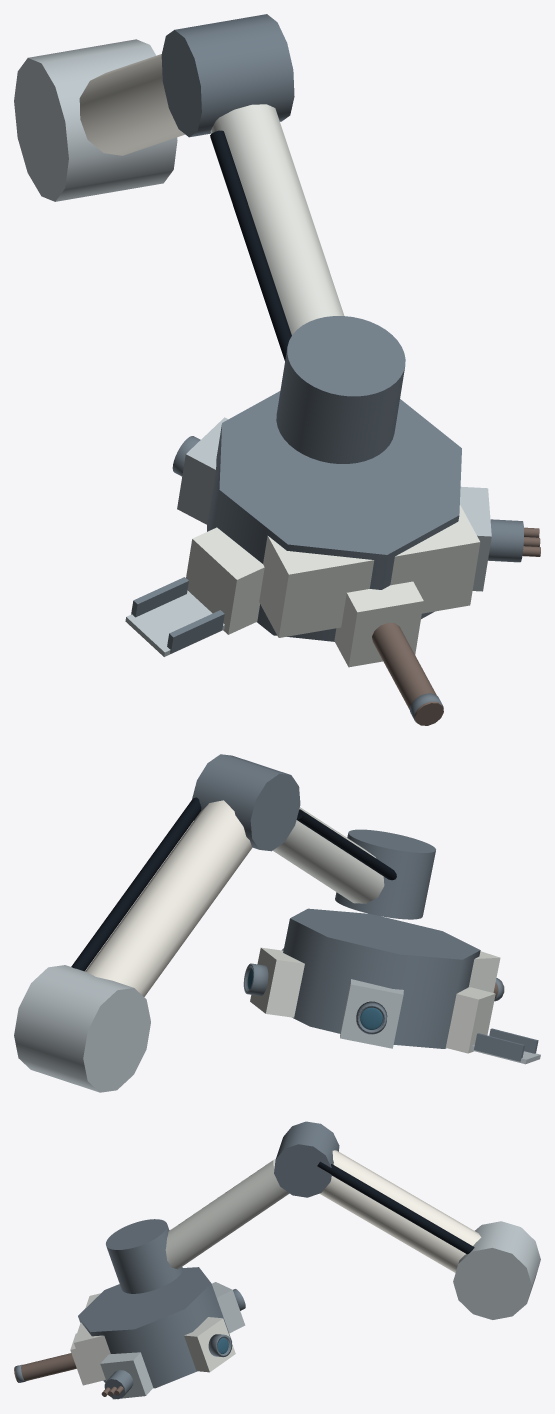
The model's file is curiosity_arm.glb.
The picture shows the model from 3 angles, top to bottom: view 1: azimuth 30°, elevation 25°; view 2: azimuth 150°, elevation 25°; view 3: azimuth 270°, elevation 25°; orthographic projection. The views are drawn at different scales.
Visible parts, largest first — view 1: curiosity_arm.shoulder_azimuth.shoulder_elevation.elbow.fore (×3), curiosity_turret.mesh_Machined_steel, curiosity_arm.shoulder_azimuth.shoulder_elevation.mesh_Satin, curiosity_turret.mesh_Pale_thermal_blanket, curiosity_arm.shoulder_azimuth.shoulder_elevation.elbow.mesh, curiosity_arm.shoulder_azimuth.shoulder_elevation.mesh_Warm_, curiosity_turret.chimra.mesh_Pale_thermal_blanket, curiosity_turret.drill.mesh_Pale_thermal_blanket, curiosity_turret.drill.mesh_Heat-stained_alloy, curiosity_turret.apxs.mesh_Satin_aluminum, curiosity_turret.chimra.mesh_Satin_aluminum, curiosity_turret.chimra.mesh_Machined_steel (+2 smaller); view 2: curiosity_turret.mesh_Machined_steel, curiosity_arm.shoulder_azimuth.shoulder_elevation.mesh_Satin, curiosity_arm.shoulder_azimuth.shoulder_elevation.mesh_Warm_, curiosity_arm.shoulder_azimuth.shoulder_elevation.elbow.fore (×3), curiosity_arm.shoulder_azimuth.shoulder_elevation.elbow.mesh, curiosity_arm.shoulder_azimuth.shoulder_elevation.mesh_Shado, curiosity_turret.apxs.mesh_Satin_aluminum, curiosity_turret.mahli.mesh_Pale_thermal_blanket, curiosity_turret.chimra.mesh_Pale_thermal_blanket, curiosity_turret.chimra.mesh_Machined_steel, curiosity_turret.mesh_Pale_thermal_blanket, curiosity_turret.mahli.aperture.mesh_Machined_steel (+2 smaller); view 3: curiosity_turret.mesh_Machined_steel, curiosity_arm.shoulder_azimuth.shoulder_elevation.elbow.fore (×2), curiosity_arm.shoulder_azimuth.shoulder_elevation.mesh_Satin, curiosity_arm.shoulder_azimuth.shoulder_elevation.mesh_Warm_, curiosity_arm.shoulder_azimuth.shoulder_elevation.elbow.mesh, curiosity_arm.shoulder_azimuth.shoulder_elevation.mesh_Shado, curiosity_turret.mahli.mesh_Pale_thermal_blanket, curiosity_turret.mesh_Pale_thermal_blanket, curiosity_turret.drt.mesh_Satin_aluminum, curiosity_turret.drill.mesh_Heat-stained_alloy, curiosity_turret.apxs.mesh_Satin_aluminum, curiosity_turret.drt.mesh_Machined_steel (+1 smaller).
Part boxes in pixels (left/top/right/bottom): curiosity_arm.shoulder_azimuth.shoulder_elevation.elbow.fore (×3): left=210, top=104, right=405, bottom=463; curiosity_turret.mesh_Machined_steel: left=207, top=391, right=461, bottom=641; curiosity_arm.shoulder_azimuth.shoulder_elevation.mesh_Satin: left=14, top=39, right=177, bottom=201; curiosity_turret.mesh_Pale_thermal_blanket: left=259, top=505, right=480, bottom=637; curiosity_arm.shoulder_azimuth.shoulder_elevation.elbow.mesh: left=161, top=14, right=294, bottom=137; curiosity_arm.shoulder_azimuth.shoulder_elevation.mesh_Warm_: left=79, top=54, right=184, bottom=155; curiosity_turret.chimra.mesh_Pale_thermal_blanket: left=186, top=527, right=264, bottom=634; curiosity_turret.drill.mesh_Pale_thermal_blanket: left=334, top=581, right=423, bottom=667; curiosity_turret.drill.mesh_Heat-stained_alloy: left=372, top=622, right=443, bottom=725; curiosity_turret.apxs.mesh_Satin_aluminum: left=177, top=417, right=228, bottom=524; curiosity_turret.chimra.mesh_Satin_aluminum: left=125, top=590, right=224, bottom=656; curiosity_turret.chimra.mesh_Machined_steel: left=131, top=577, right=224, bottom=653; curiosity_turret.mesh_Machined_steel: left=283, top=908, right=480, bottom=1048; curiosity_arm.shoulder_azimuth.shoulder_elevation.mesh_Satin: left=14, top=965, right=150, bottom=1092; curiosity_arm.shoulder_azimuth.shoulder_elevation.mesh_Warm_: left=85, top=800, right=252, bottom=996; curiosity_arm.shoulder_azimuth.shoulder_elevation.elbow.fore (×3): left=273, top=807, right=435, bottom=919; curiosity_arm.shoulder_azimuth.shoulder_elevation.elbow.mesh: left=192, top=754, right=300, bottom=851; curiosity_arm.shoulder_azimuth.shoulder_elevation.mesh_Shado: left=71, top=797, right=201, bottom=971; curiosity_turret.apxs.mesh_Satin_aluminum: left=340, top=979, right=403, bottom=1048; curiosity_turret.mahli.mesh_Pale_thermal_blanket: left=250, top=947, right=304, bottom=1017; curiosity_turret.chimra.mesh_Pale_thermal_blanket: left=445, top=987, right=495, bottom=1053; curiosity_turret.chimra.mesh_Machined_steel: left=474, top=1028, right=538, bottom=1061; curiosity_turret.mesh_Pale_thermal_blanket: left=469, top=951, right=500, bottom=992; curiosity_turret.mahli.aperture.mesh_Machined_steel: left=243, top=963, right=268, bottom=995; curiosity_turret.mesh_Machined_steel: left=78, top=1267, right=231, bottom=1388; curiosity_arm.shoulder_azimuth.shoulder_elevation.elbow.fore (×2): left=106, top=1158, right=289, bottom=1293; curiosity_arm.shoulder_azimuth.shoulder_elevation.mesh_Satin: left=453, top=1221, right=540, bottom=1319; curiosity_arm.shoulder_azimuth.shoulder_elevation.mesh_Warm_: left=320, top=1150, right=481, bottom=1272; curiosity_arm.shoulder_azimuth.shoulder_elevation.elbow.mesh: left=274, top=1121, right=339, bottom=1197; curiosity_arm.shoulder_azimuth.shoulder_elevation.mesh_Shado: left=317, top=1161, right=474, bottom=1254; curiosity_turret.mahli.mesh_Pale_thermal_blanket: left=184, top=1317, right=235, bottom=1372; curiosity_turret.mesh_Pale_thermal_blanket: left=74, top=1293, right=110, bottom=1383; curiosity_turret.drt.mesh_Satin_aluminum: left=100, top=1352, right=153, bottom=1399; curiosity_turret.drill.mesh_Heat-stained_alloy: left=14, top=1353, right=76, bottom=1382; curiosity_turret.apxs.mesh_Satin_aluminum: left=212, top=1282, right=245, bottom=1333; curiosity_turret.drt.mesh_Machined_steel: left=104, top=1370, right=133, bottom=1399.
Size of the model in its own units: 0.7564 by 0.942 by 1.69.
